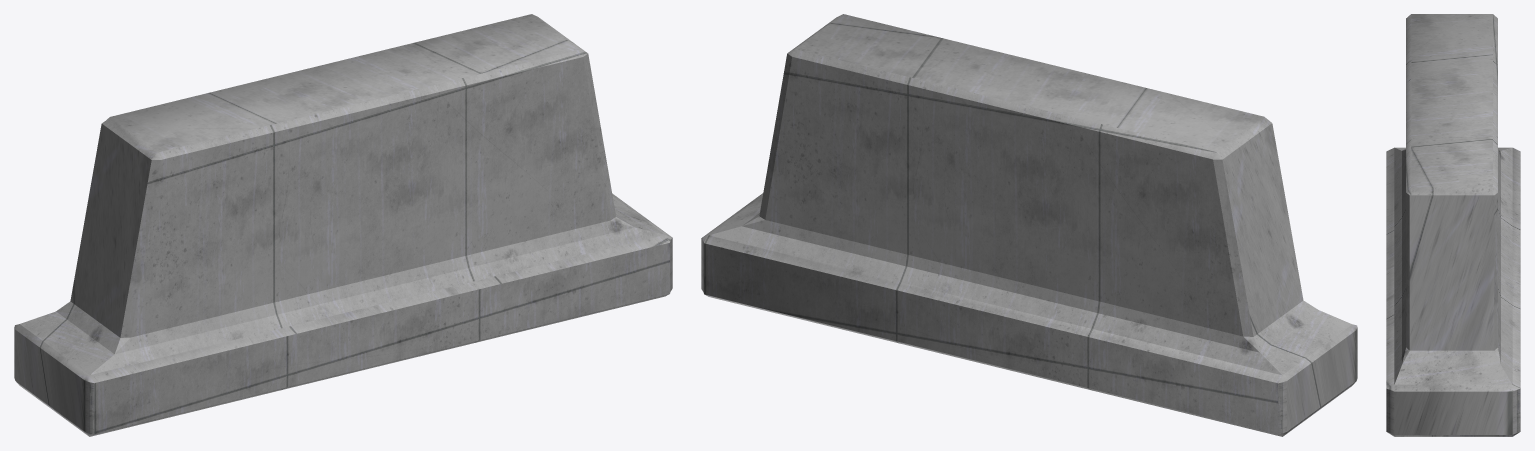
The model's file is Barricada.fbx.
3 views of the same model, side by side, from view 1: azimuth 30°, elevation 25°; view 2: azimuth 150°, elevation 25°; view 3: azimuth 270°, elevation 25° (orthographic). The views are drawn at different scales.
Parts seen in each view (by area): view 1: Box101; view 2: Box101; view 3: Box101.
Part boxes in pixels (x1,y1,x2,y2): Box101: (14, 14, 672, 436); Box101: (701, 14, 1357, 436); Box101: (1386, 14, 1520, 436).
Bounding box in the file's own units: 245 × 103 × 57.4.
